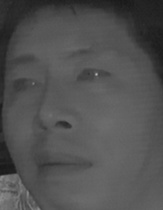eye: (74, 63, 113, 89), (7, 74, 43, 97)
mouth: (32, 146, 93, 180)
